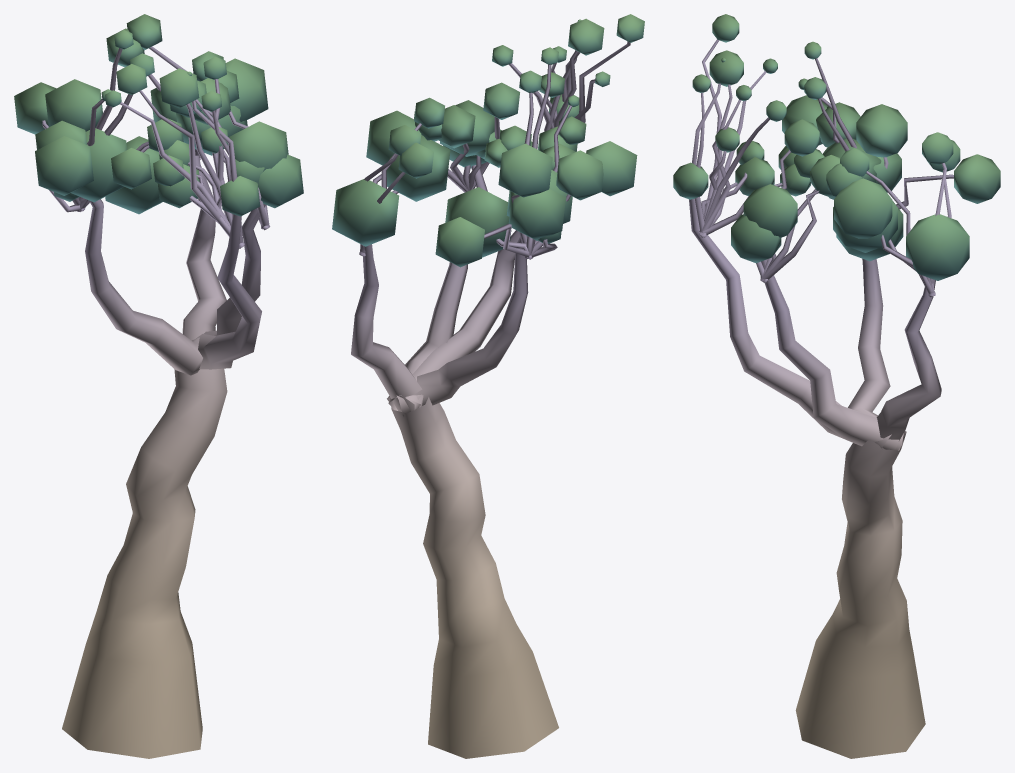
Rendered from seed_tree_f.glb.
3 renders of one model, left to right at view 1: azimuth 30°, elevation 25°; view 2: azimuth 150°, elevation 25°; view 3: azimuth 270°, elevation 25°, orthographic. The views are drawn at different scales.
Parts seen in each view (by area): view 1: seed_tree_f_LOD0; view 2: seed_tree_f_LOD0; view 3: seed_tree_f_LOD0.
Part boxes in pixels (bbox=[...]): seed_tree_f_LOD0: bbox=[14, 14, 303, 758]; seed_tree_f_LOD0: bbox=[332, 14, 644, 758]; seed_tree_f_LOD0: bbox=[673, 14, 1000, 758].
Size of what is drawn, in the model's own units: 4.47 by 12.55 by 5.45.
